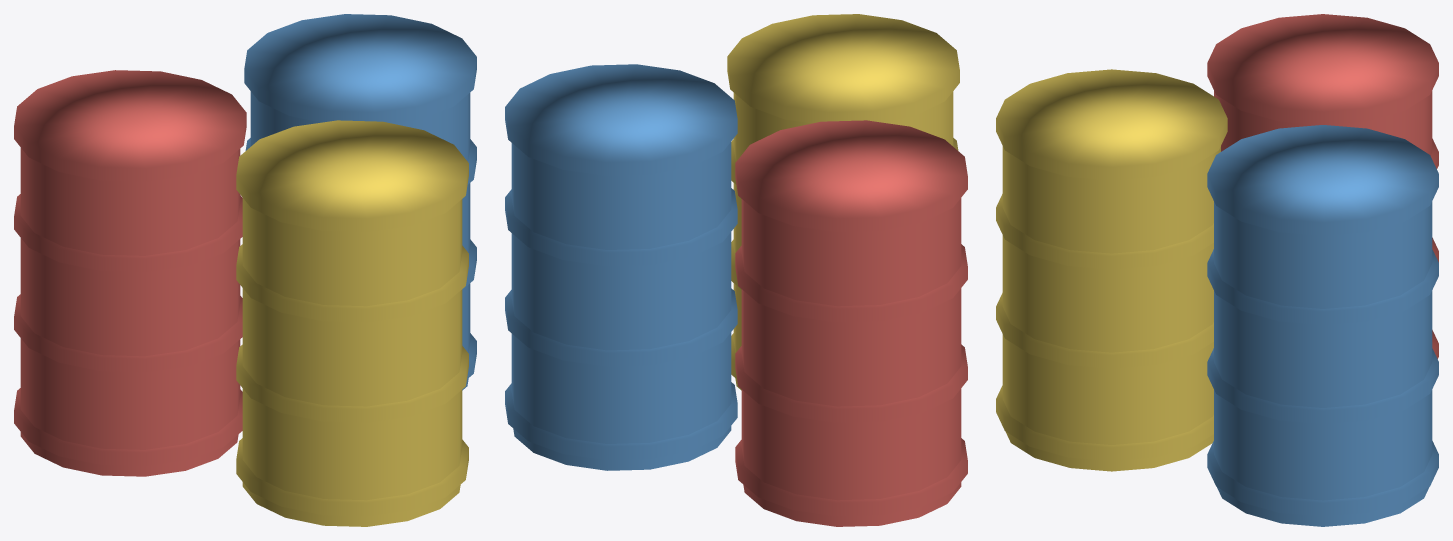
File: urb_fuel_barrels.glb
The picture shows the model from 3 angles, left to right: view 1: azimuth 30°, elevation 25°; view 2: azimuth 150°, elevation 25°; view 3: azimuth 270°, elevation 25°; orthographic projection.
Parts seen in each view (by area): view 1: barrel_2, barrel_0, barrel_1; view 2: barrel_0, barrel_1, barrel_2; view 3: barrel_1, barrel_2, barrel_0.
Part boxes in pixels (box(x1,y1,x2,y2)): barrel_2: box(236, 120, 468, 526); barrel_0: box(14, 70, 246, 476); barrel_1: box(244, 14, 476, 390); barrel_0: box(735, 120, 967, 526); barrel_1: box(505, 64, 737, 470); barrel_2: box(727, 14, 959, 390); barrel_1: box(1207, 125, 1438, 526); barrel_2: box(996, 69, 1227, 471); barrel_0: box(1207, 14, 1438, 358).
Size of the model in its own units: 1.36 by 0.93 by 1.22.
